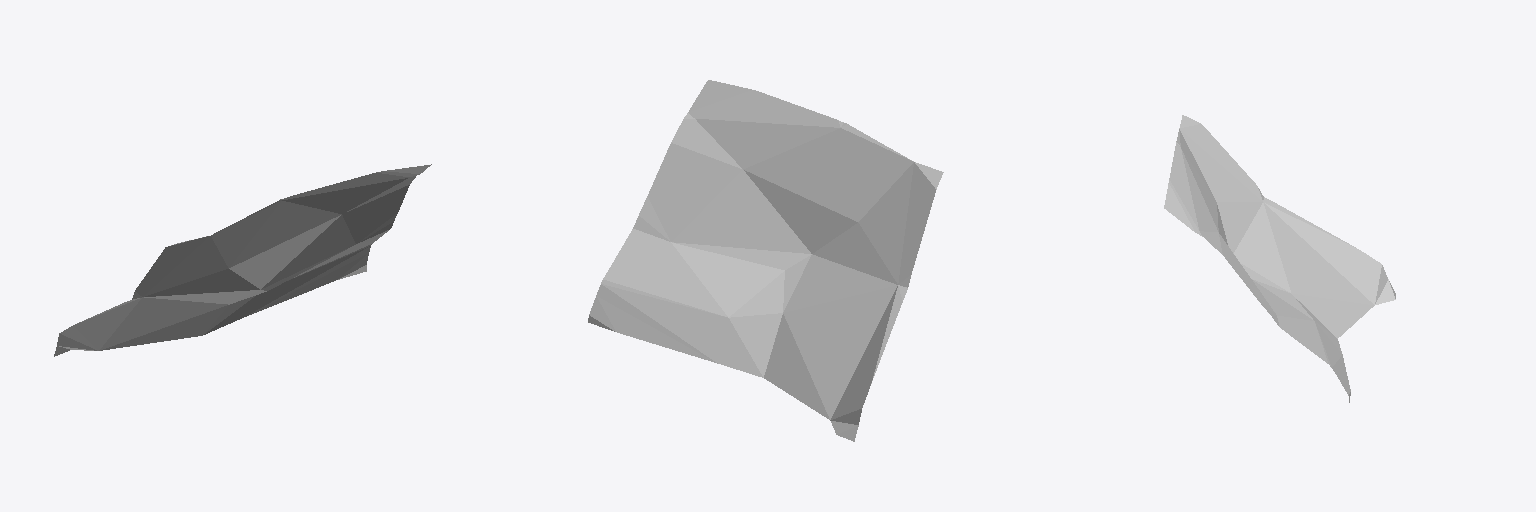
Rendered from HAND_new_117_formatting.obj.
The picture shows the model from 3 angles: view 1: azimuth 30°, elevation 25°; view 2: azimuth 150°, elevation 25°; view 3: azimuth 270°, elevation 25°; orthographic projection.
Bounding box in the file's own units: 28.65 × 20.36 × 19.77.